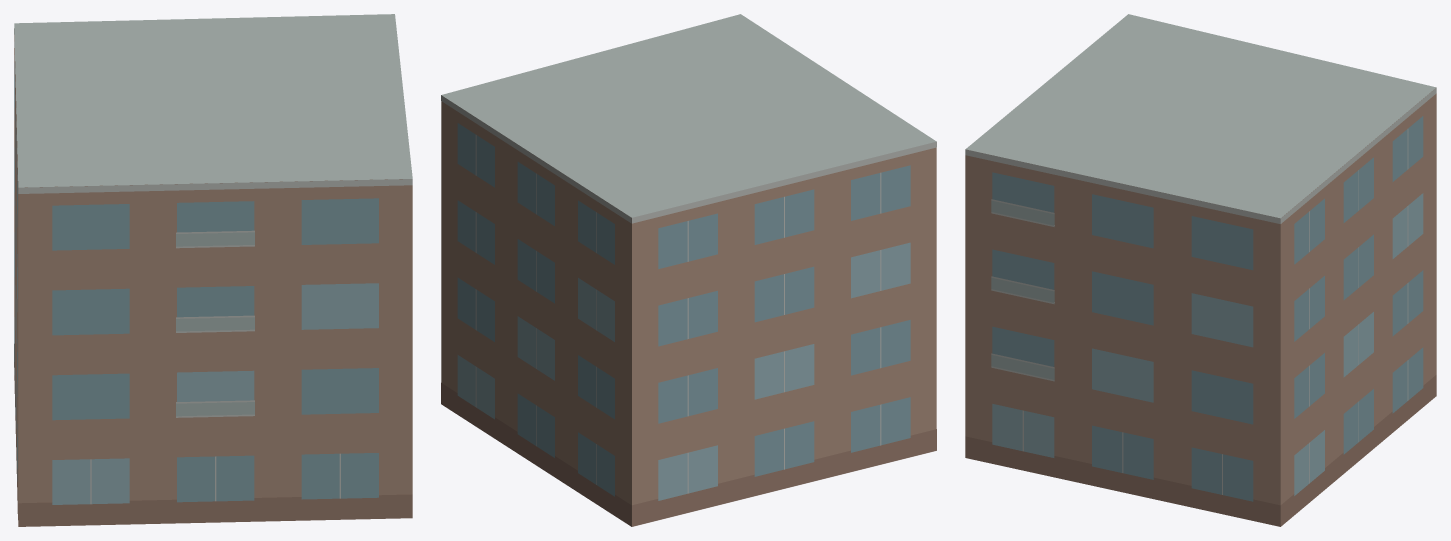
The model's file is survey-upis-32845336.glb.
3 renders of one model, left to right at view 1: azimuth 30°, elevation 25°; view 2: azimuth 150°, elevation 25°; view 3: azimuth 270°, elevation 25°, orthographic. The views are drawn at different scales.
Visible parts, largest first — view 1: survey-upis-32845336.tmp; view 2: survey-upis-32845336.tmp; view 3: survey-upis-32845336.tmp.
Boxes of the visible parts, <box> form: survey-upis-32845336.tmp: <box>14,14,412,526</box>; survey-upis-32845336.tmp: <box>441,14,936,526</box>; survey-upis-32845336.tmp: <box>965,14,1436,526</box>.
Size of the model in its own units: 18.19 by 12.8 by 17.73.
